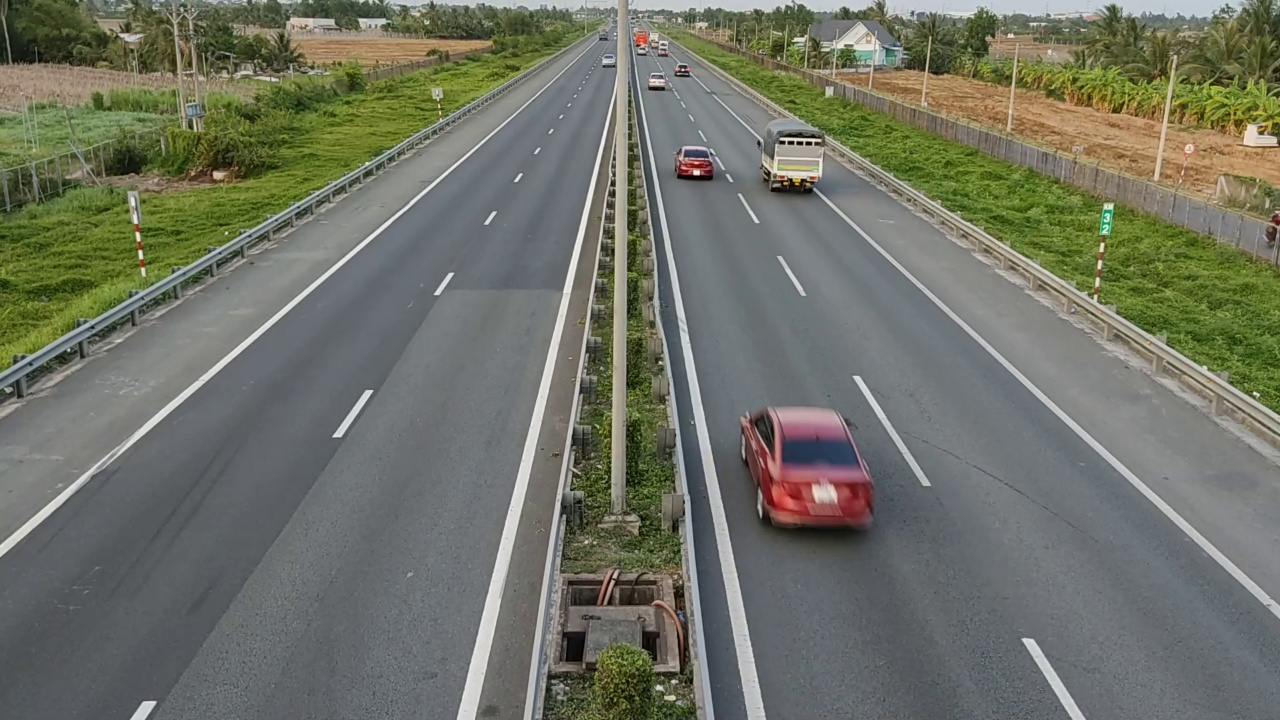car: (739, 405, 877, 529), (673, 145, 715, 179), (647, 72, 670, 89), (674, 64, 691, 76)
truck: (752, 108, 829, 196)
